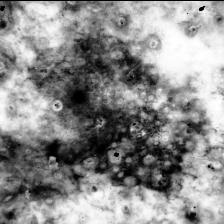Potentially Malignant Skin Tumors: (45, 36, 204, 190)
